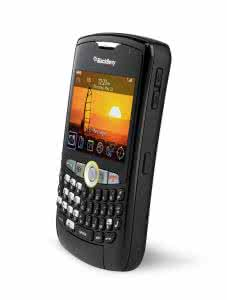phone: (54, 35, 172, 263)
